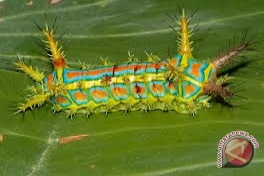Pest! (nettle_caterpillar): (12, 15, 241, 120)
